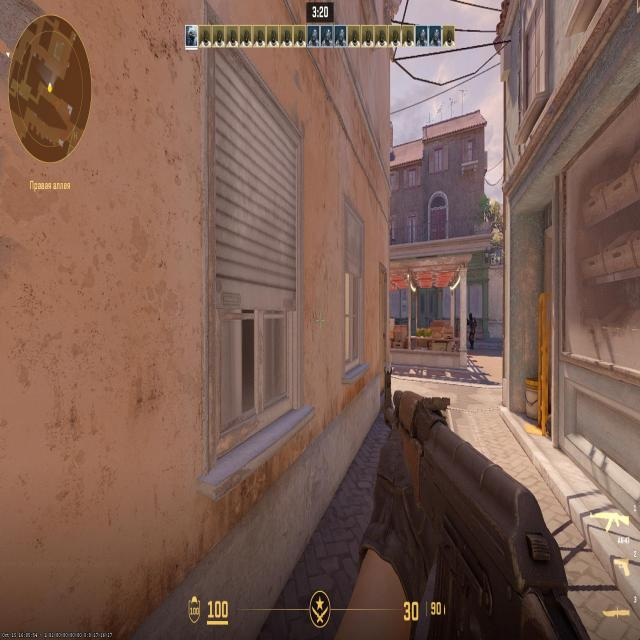CT: (470, 314, 476, 351)
CT_heat: (469, 312, 473, 321)
